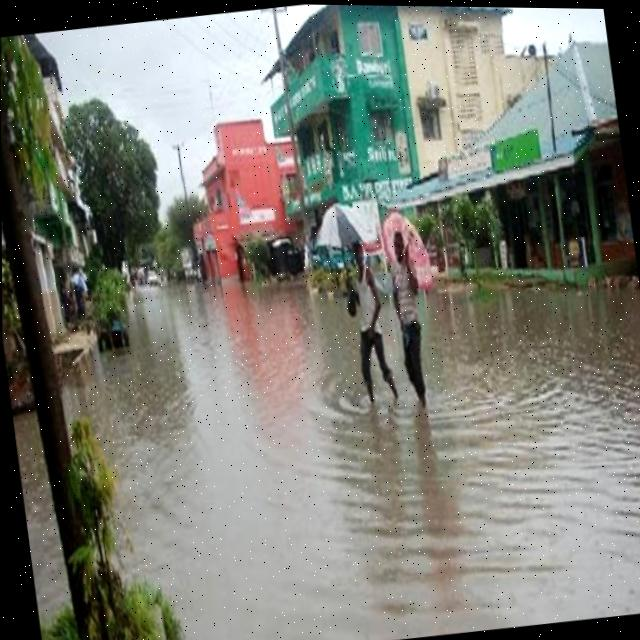civilian: (378, 218, 447, 422), (337, 239, 399, 412)
